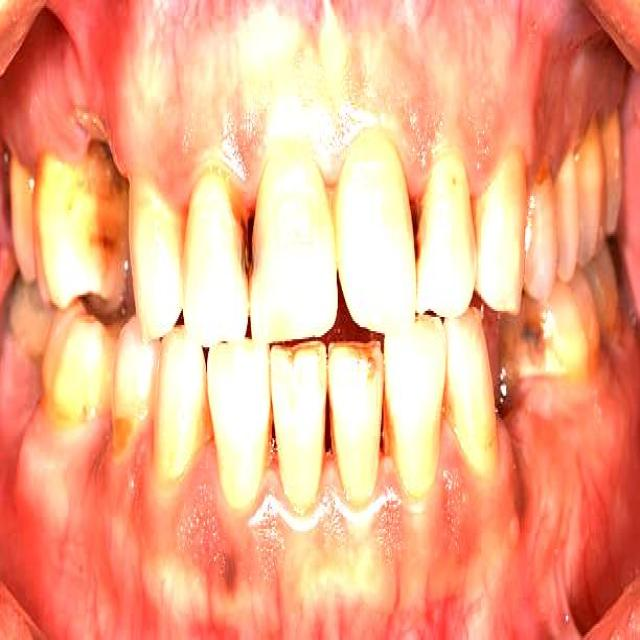caries: (70, 117, 129, 275), (490, 313, 549, 436), (233, 186, 270, 290), (396, 182, 432, 270)
